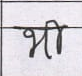i_matra: (47, 19, 65, 54)
